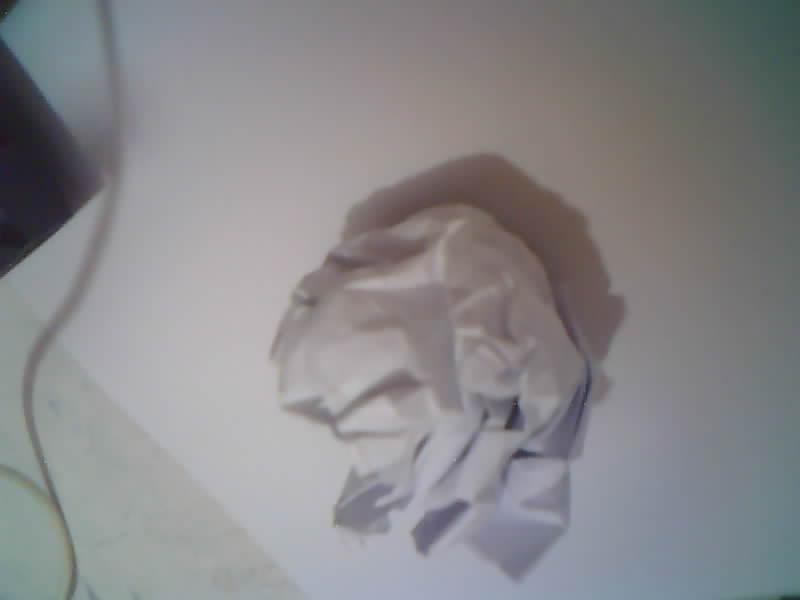biodegradable: (271, 205, 592, 580)
